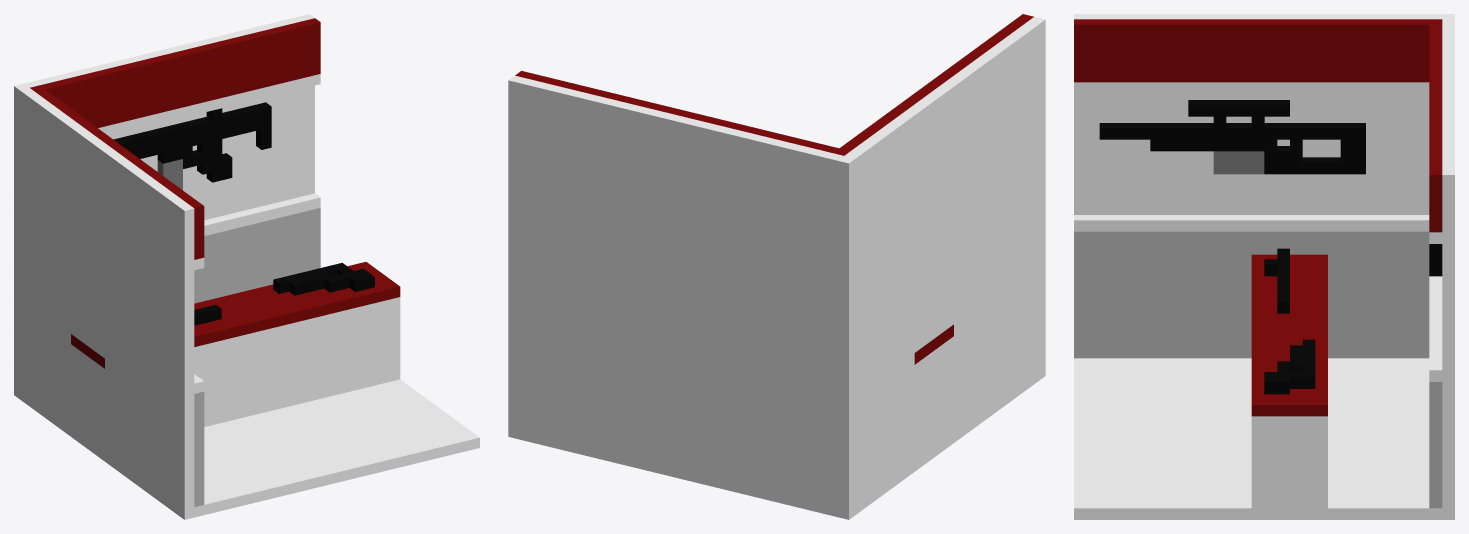
Rendered from gunRoom.obj.
3 renders of one model, left to right at view 1: azimuth 30°, elevation 25°; view 2: azimuth 150°, elevation 25°; view 3: azimuth 270°, elevation 25°, orthographic. The views are drawn at different scales.
Parts seen in each view (by area): view 1: mesh; view 2: mesh; view 3: mesh.
Part boxes in pixels (x1=…): mesh: x1=14, y1=14, x2=479, y2=519; mesh: x1=508, y1=14, x2=1045, y2=519; mesh: x1=1074, y1=14, x2=1454, y2=519.
Size of the model in its own units: 3 by 3 by 3.
